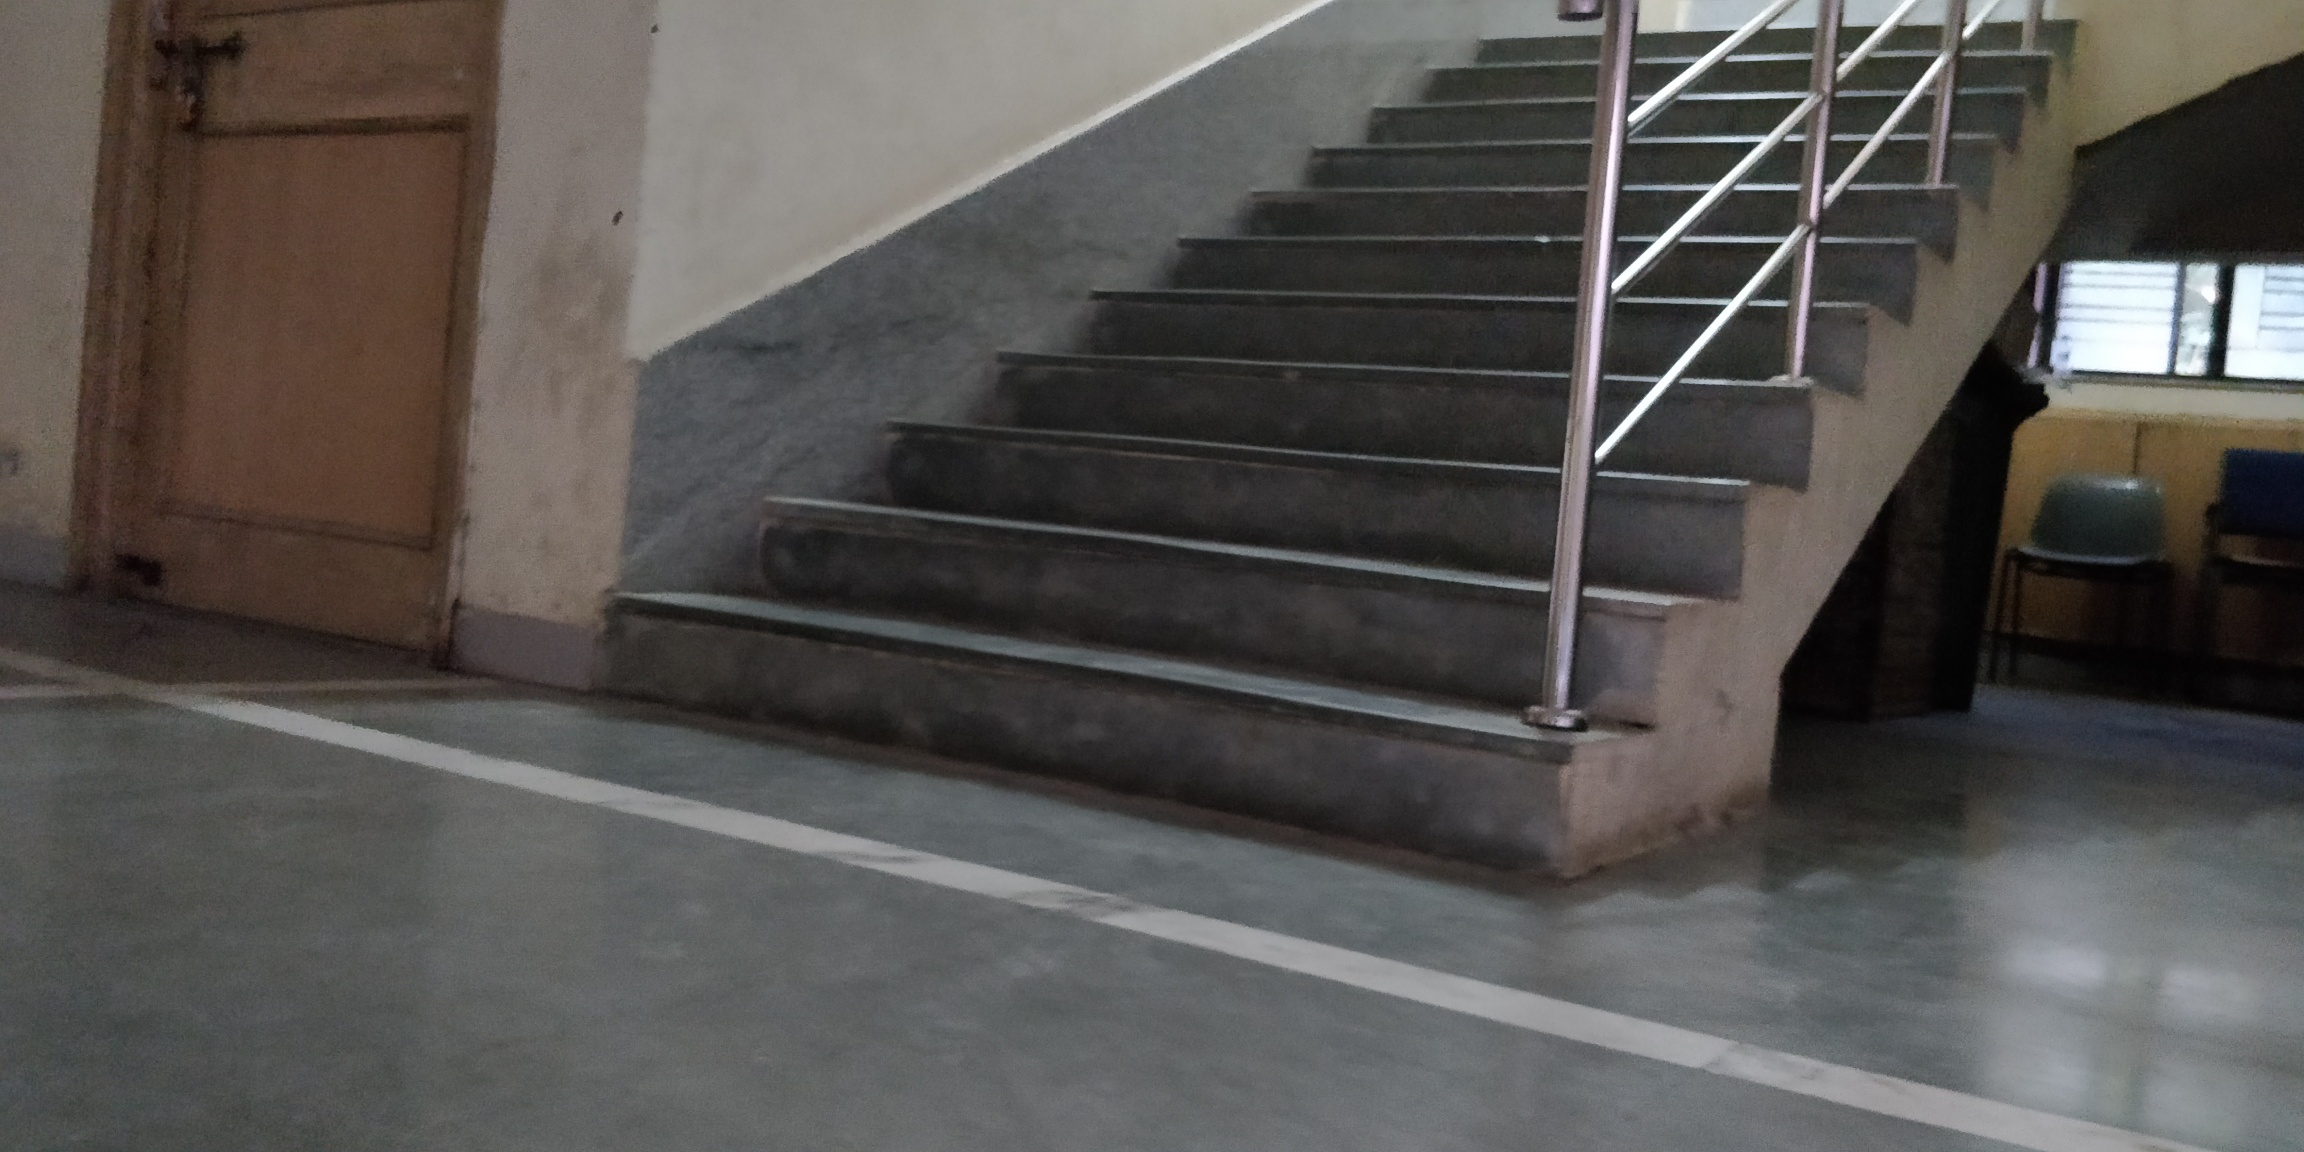stairs_up: (595, 35, 1585, 839)
